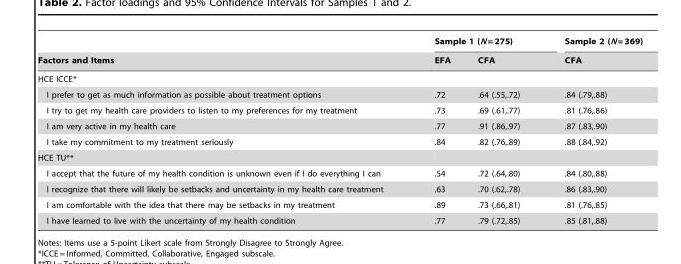table: (37, 36, 642, 224)
table column: (37, 36, 408, 224), (541, 36, 642, 224), (463, 36, 541, 224), (408, 36, 463, 224)
table column header: (37, 36, 642, 69)
table projected row header: (37, 69, 642, 86), (37, 149, 642, 165)
table row: (37, 50, 642, 69), (37, 69, 642, 86), (37, 86, 642, 102), (37, 102, 642, 118), (37, 133, 642, 149), (37, 149, 642, 165), (37, 165, 642, 181), (37, 196, 642, 212), (37, 118, 642, 133), (37, 181, 642, 196), (37, 36, 642, 50), (37, 212, 642, 224)
table spanning cell: (37, 36, 408, 69), (541, 36, 642, 69), (408, 36, 541, 50)
